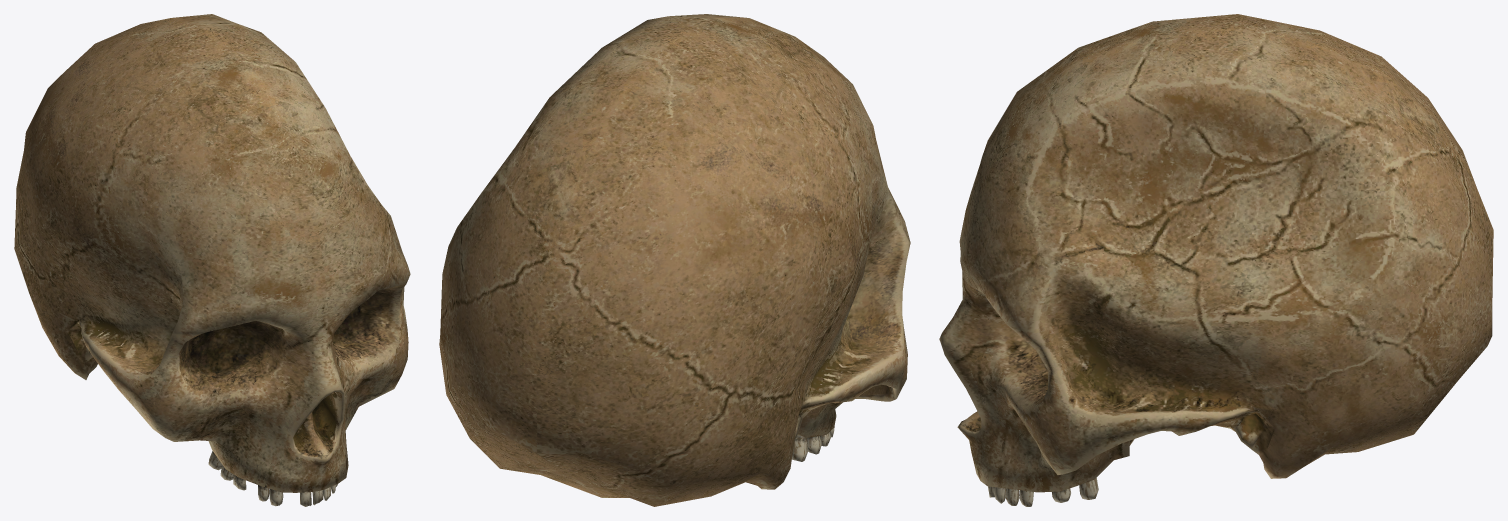
File: bone_skull_fractured_02.DAE
3 renders of one model, left to right at view 1: azimuth 30°, elevation 25°; view 2: azimuth 150°, elevation 25°; view 3: azimuth 270°, elevation 25°, orthographic. The views are drawn at different scales.
Parts seen in each view (by area): view 1: bone_skull_fractured_02; view 2: bone_skull_fractured_02; view 3: bone_skull_fractured_02.
Part boxes in pixels (bbox=[...]): bone_skull_fractured_02: bbox=[14, 14, 410, 506]; bone_skull_fractured_02: bbox=[439, 14, 910, 506]; bone_skull_fractured_02: bbox=[939, 14, 1493, 506].
Bounding box in the file's own units: 15.27 × 19.76 × 21.44.
